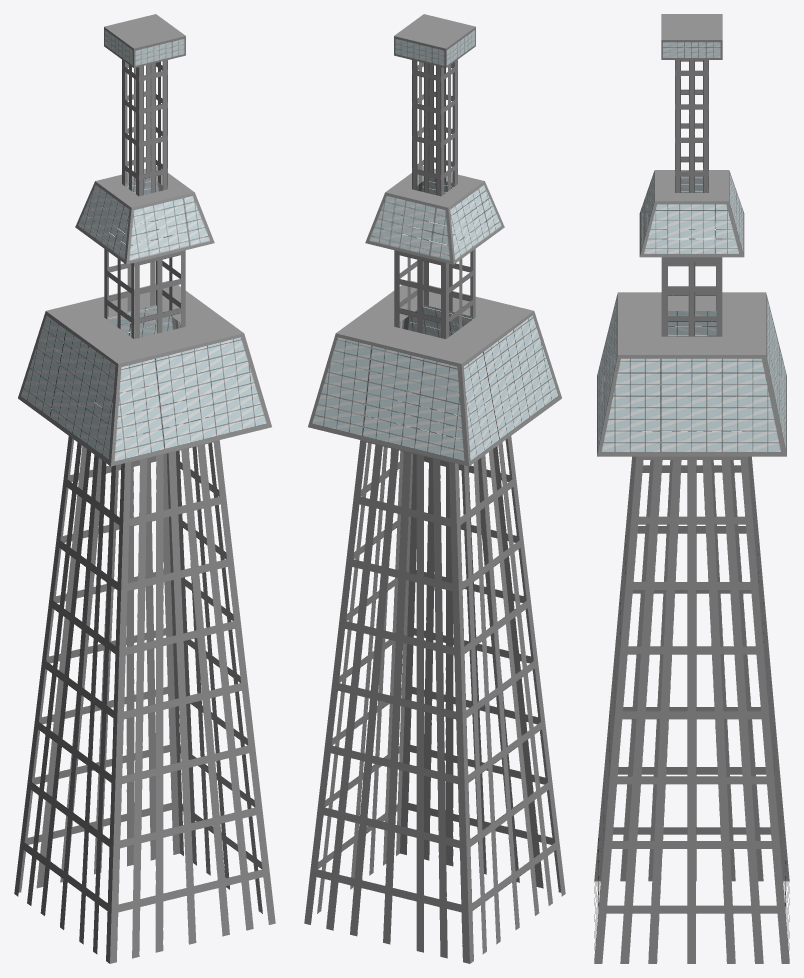
Rendered from taw-.fbx.
3 renders of one model, left to right at view 1: azimuth 30°, elevation 25°; view 2: azimuth 150°, elevation 25°; view 3: azimuth 270°, elevation 25°, orthographic. The views are drawn at different scales.
Visible parts, largest first — view 1: pCube12; view 2: pCube12; view 3: pCube12.
Boxes of the visible parts, x1,y1,x2,y2 form: pCube12: (14,14,275,963); pCube12: (304,14,565,963); pCube12: (594,14,789,963).
Bounding box in the file's own units: 1.26 × 6.37 × 1.26.
